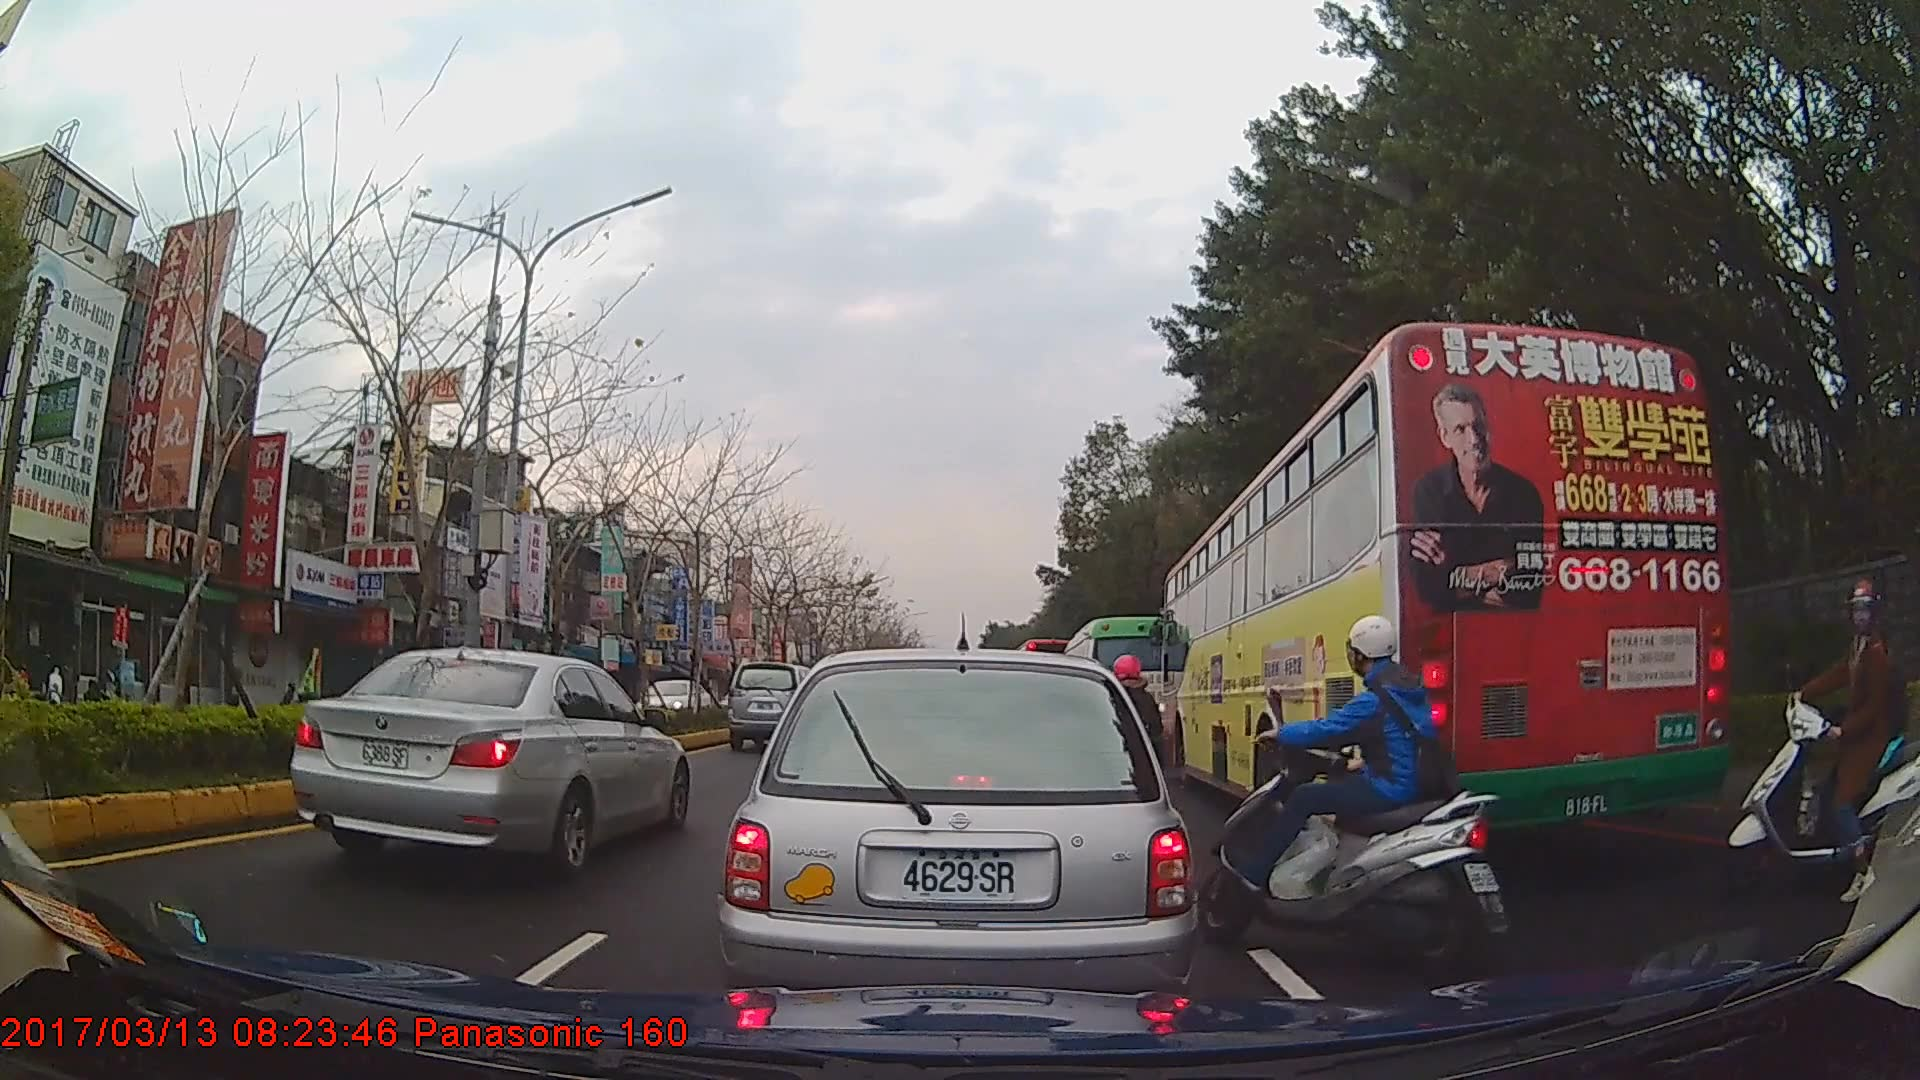rider: (1204, 619, 1506, 974), (1731, 573, 1908, 896), (1100, 651, 1166, 818)
vehicle: (1160, 320, 1727, 853), (716, 646, 1196, 1031), (285, 643, 688, 877), (1060, 616, 1188, 760), (726, 660, 820, 750), (627, 674, 711, 729)
